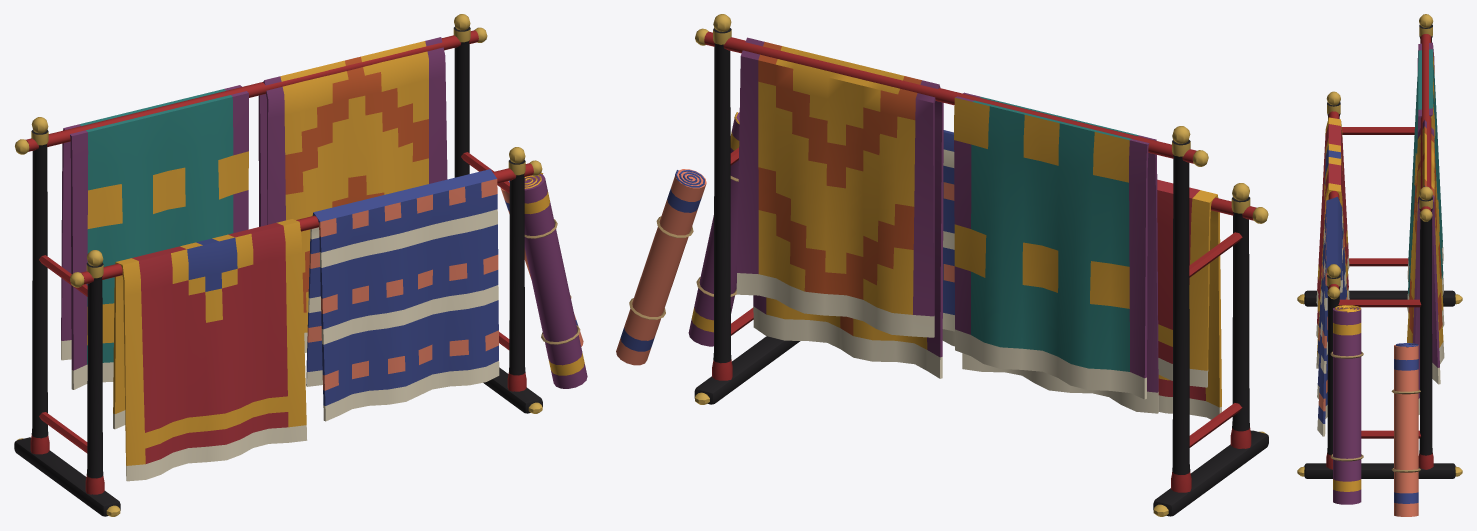
File: deco_rug_rack.fbx
The picture shows the model from 3 angles, left to right: view 1: azimuth 30°, elevation 25°; view 2: azimuth 150°, elevation 25°; view 3: azimuth 270°, elevation 25°; orthographic projection. The views are drawn at different scales.
Parts seen in each view (by area): view 1: RugRack_RugCrimson, RugRack_RugIndigo, RugRack_RugTeal, RugRack_RugSaffron, RugRack_Frame, RugRack_Rolls; view 2: RugRack_RugSaffron, RugRack_RugTeal, RugRack_Frame, RugRack_RugCrimson, RugRack_Rolls, RugRack_RugIndigo; view 3: RugRack_Frame, RugRack_Rolls, RugRack_RugSaffron, RugRack_RugIndigo, RugRack_RugCrimson, RugRack_RugTeal.
Part boxes in pixels (box(x1,y1,x2,y2)): RugRack_RugCrimson: box(113, 219, 307, 481); RugRack_RugIndigo: box(306, 169, 499, 421); RugRack_RugTeal: box(61, 85, 248, 389); RugRack_RugSaffron: box(258, 37, 447, 352); RugRack_Frame: box(14, 14, 542, 516); RugRack_Rolls: box(500, 172, 587, 388); RugRack_RugSaffron: box(736, 37, 943, 378); RugRack_RugTeal: box(954, 92, 1158, 413); RugRack_Frame: box(694, 14, 1268, 516); RugRack_RugCrimson: box(1157, 179, 1221, 419); RugRack_Rolls: box(616, 112, 739, 365); RugRack_RugIndigo: box(942, 130, 954, 346); RugRack_Frame: box(1297, 14, 1462, 478); RugRack_Rolls: box(1330, 305, 1420, 516); RugRack_RugSaffron: box(1407, 120, 1444, 414); RugRack_RugIndigo: box(1317, 197, 1347, 436); RugRack_RugCrimson: box(1316, 117, 1349, 368); RugRack_RugTeal: box(1407, 42, 1443, 312).
Size of the model in its own units: 407 by 245 by 126.
